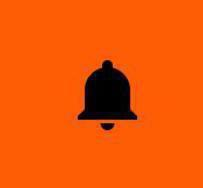ImgButton: (1, 1, 202, 187)
